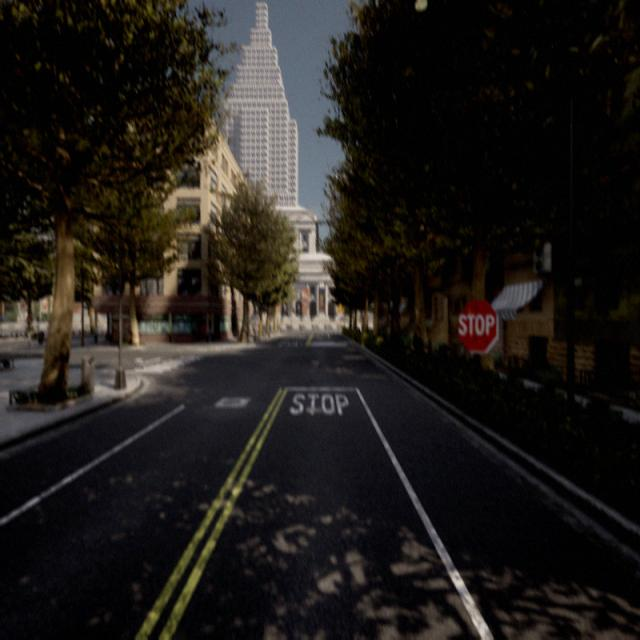stop sign: (454, 296, 501, 356), (457, 311, 496, 338)
